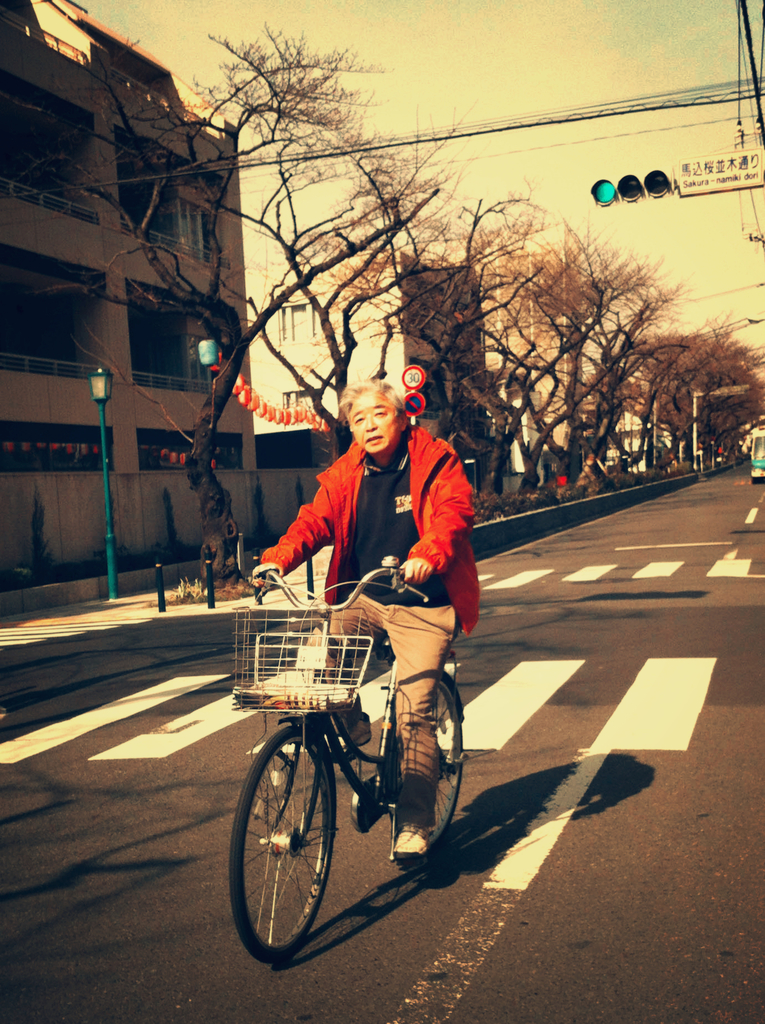Bike: (216, 560, 495, 964)
